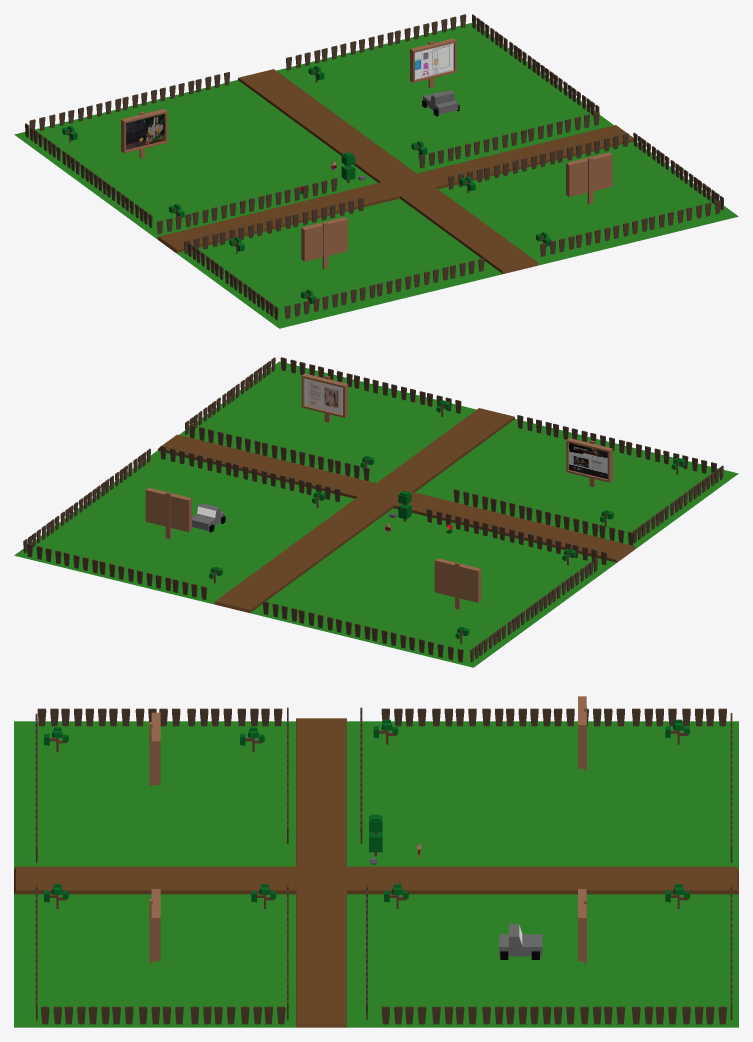
Rendered from portfolio.glb.
3 views of the same model, one above another, from view 1: azimuth 30°, elevation 25°; view 2: azimuth 150°, elevation 25°; view 3: azimuth 270°, elevation 25° (orthographic). The views are drawn at different scales.
Parts seen in each view (by area): view 1: Suelo, señal.002, señal.003, señal, señal.001, Plane.008; view 2: Suelo, señal, señal.001, señal.003, señal.002; view 3: Suelo, Plane.008, señal.001, señal, señal.002, señal.003, Tree.
Part boxes in pixels (bbox=[...]): Suelo: bbox=[14, 23, 738, 328]; señal.002: bbox=[410, 38, 456, 82]; señal.003: bbox=[121, 109, 167, 153]; señal: bbox=[301, 217, 347, 261]; señal.001: bbox=[566, 152, 612, 196]; Plane.008: bbox=[423, 90, 458, 114]; Suelo: bbox=[14, 361, 738, 667]; señal: bbox=[566, 438, 612, 482]; señal.001: bbox=[301, 373, 347, 417]; señal.003: bbox=[434, 558, 481, 602]; señal.002: bbox=[145, 487, 191, 532]; Suelo: bbox=[14, 718, 738, 1027]; Plane.008: bbox=[499, 924, 542, 956]; señal.001: bbox=[151, 889, 160, 961]; señal: bbox=[151, 712, 160, 784]; señal.002: bbox=[578, 889, 586, 961]; señal.003: bbox=[578, 696, 586, 768]; Tree: bbox=[369, 814, 382, 856].
Bounding box in the file's own units: 47.86 × 4.57 × 47.86.
Materials: 20 (4 with a texture image).
